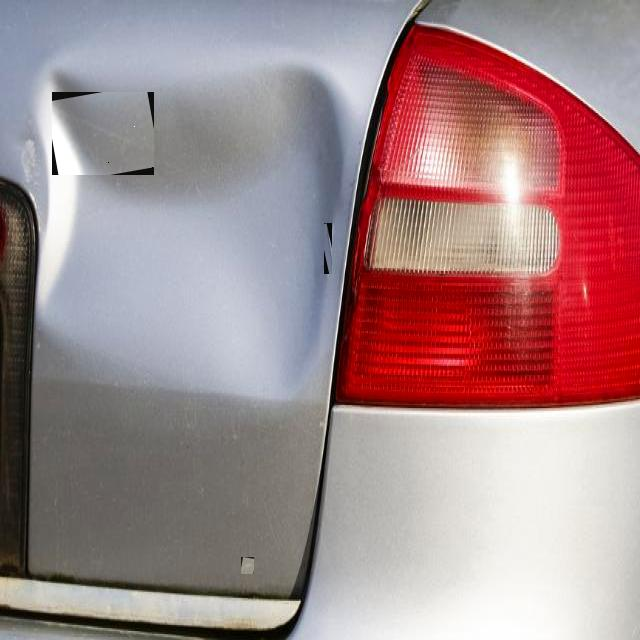Dent: (52, 92, 154, 175), (324, 223, 332, 274), (241, 557, 254, 574)
